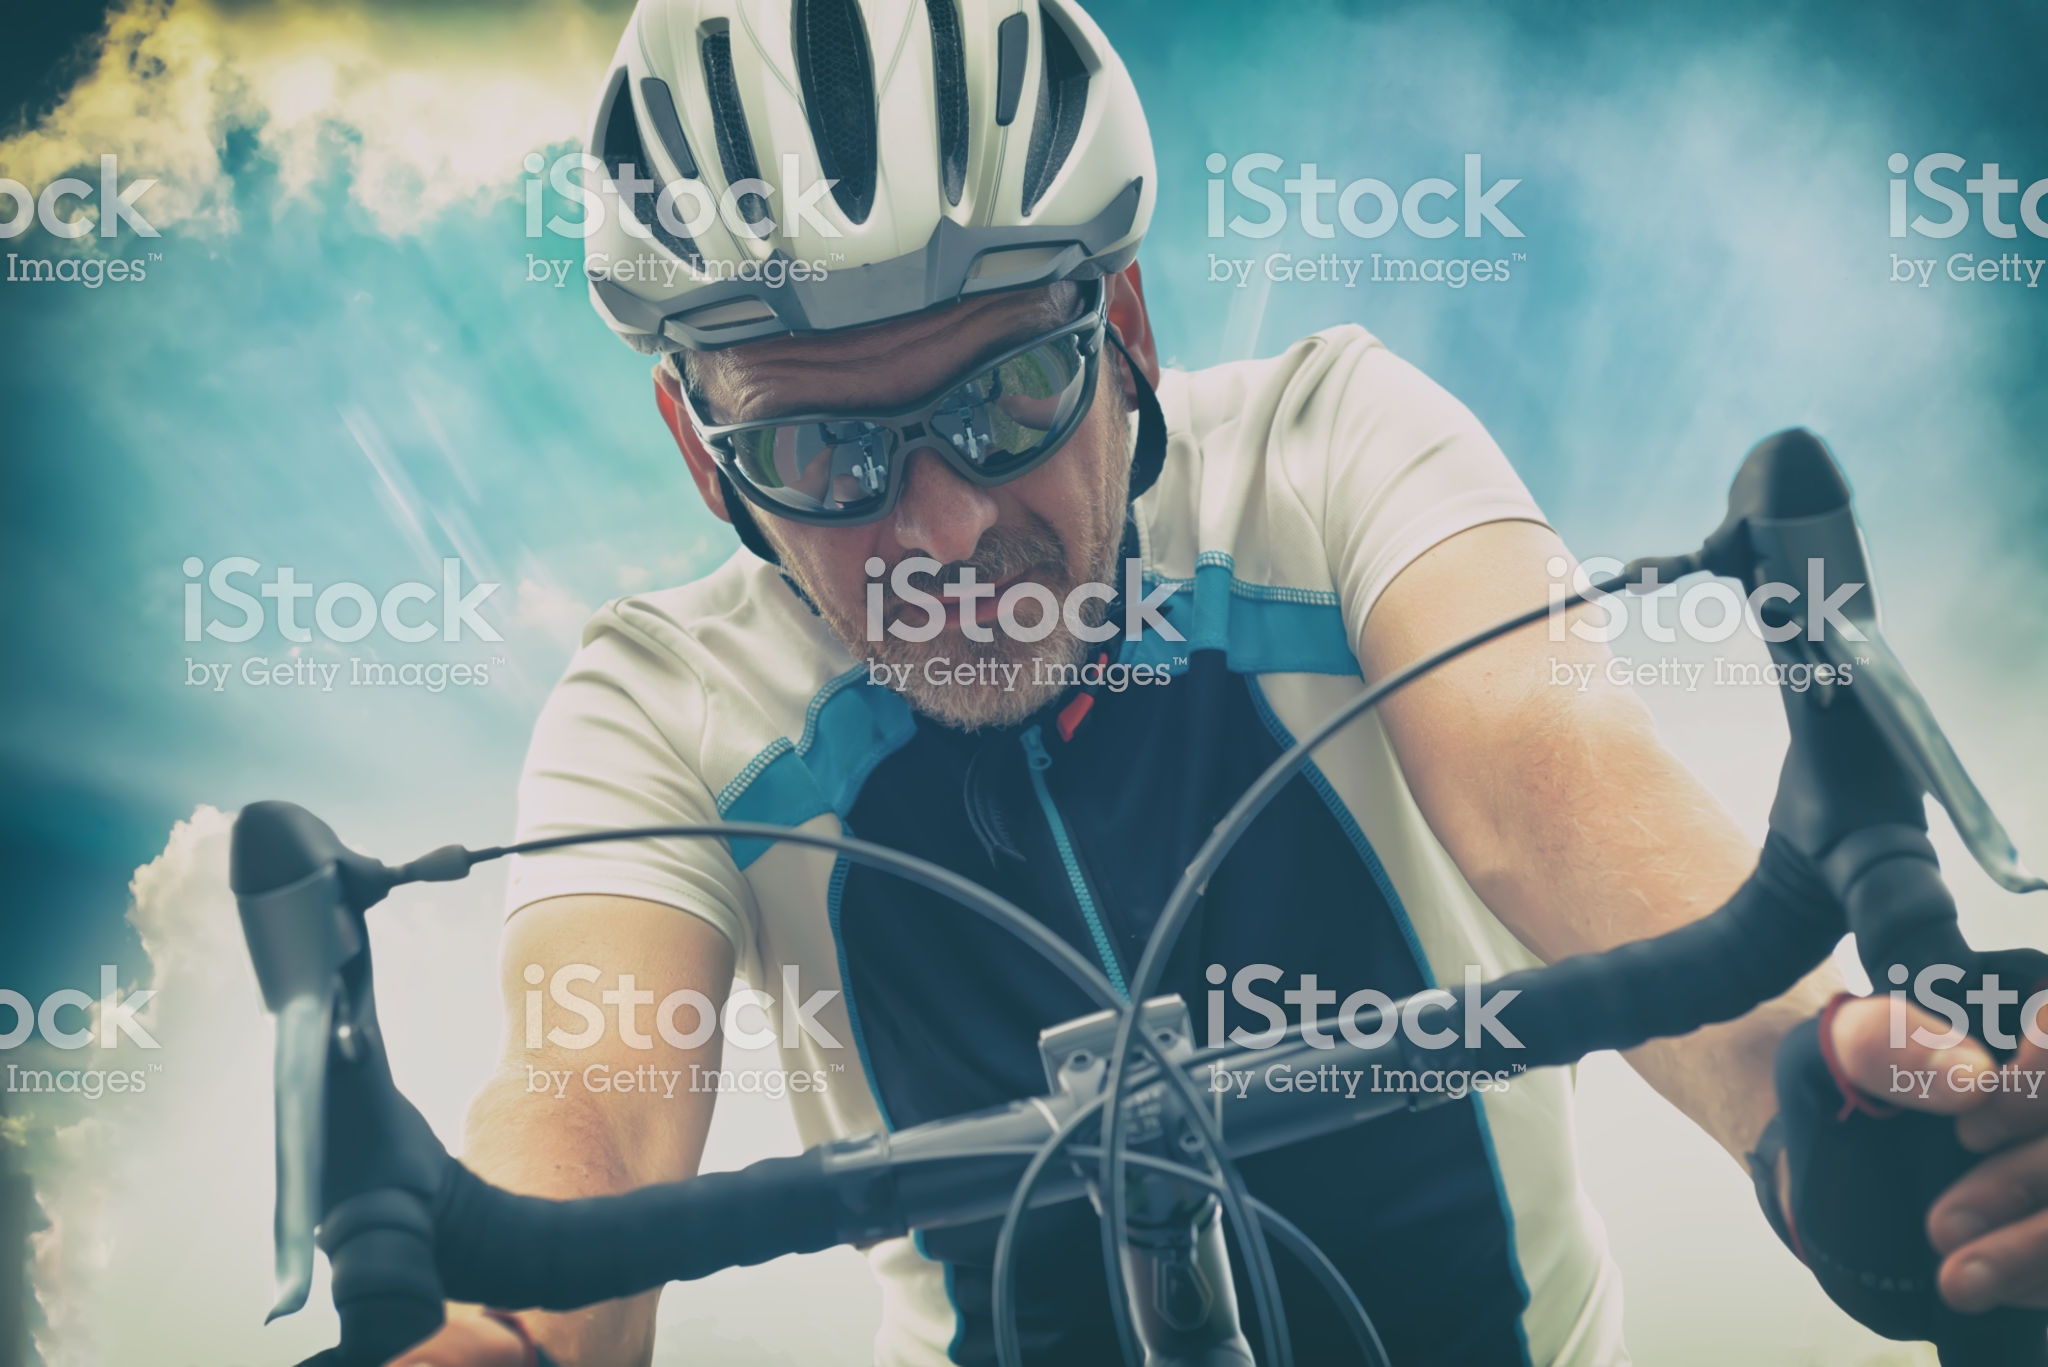helmet: (590, 14, 1193, 384)
